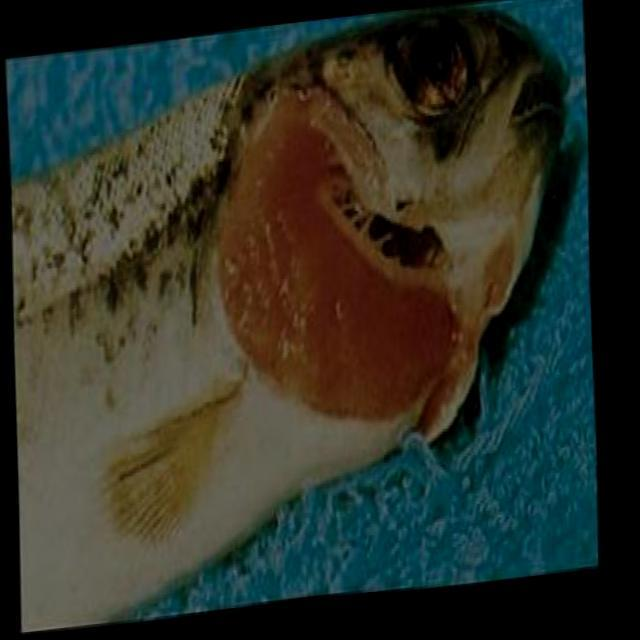Gill Disease: (176, 11, 562, 472)
